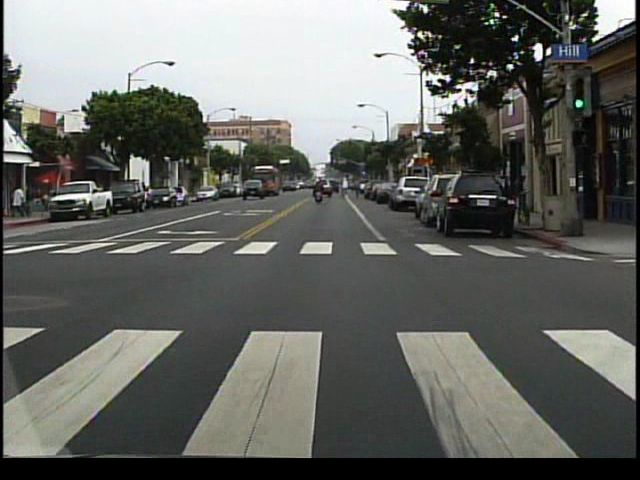person: (12, 183, 29, 220), (313, 180, 326, 206)
